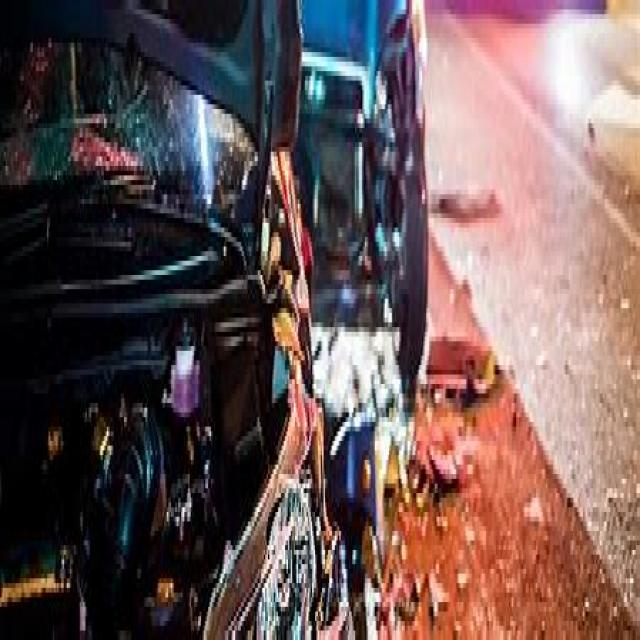Accident: (72, 93, 473, 640)
